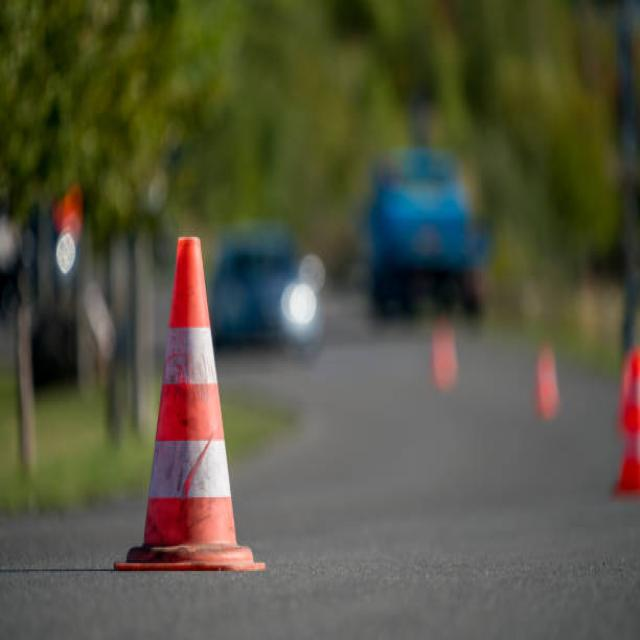Traffic Cone: (79, 216, 300, 600)
